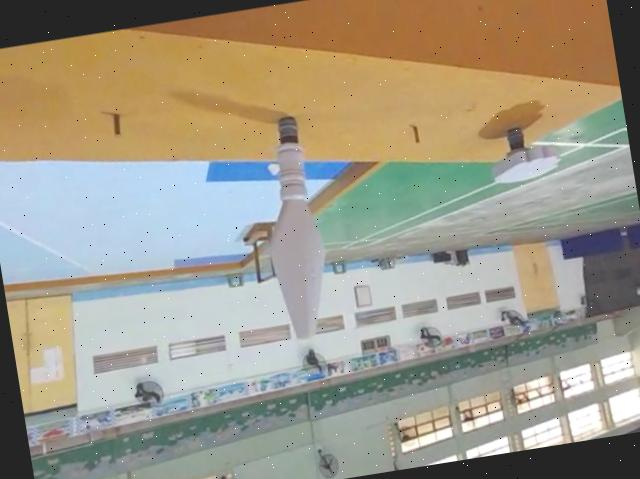Hand: (486, 120, 562, 189)
Sph: (248, 106, 341, 337)
